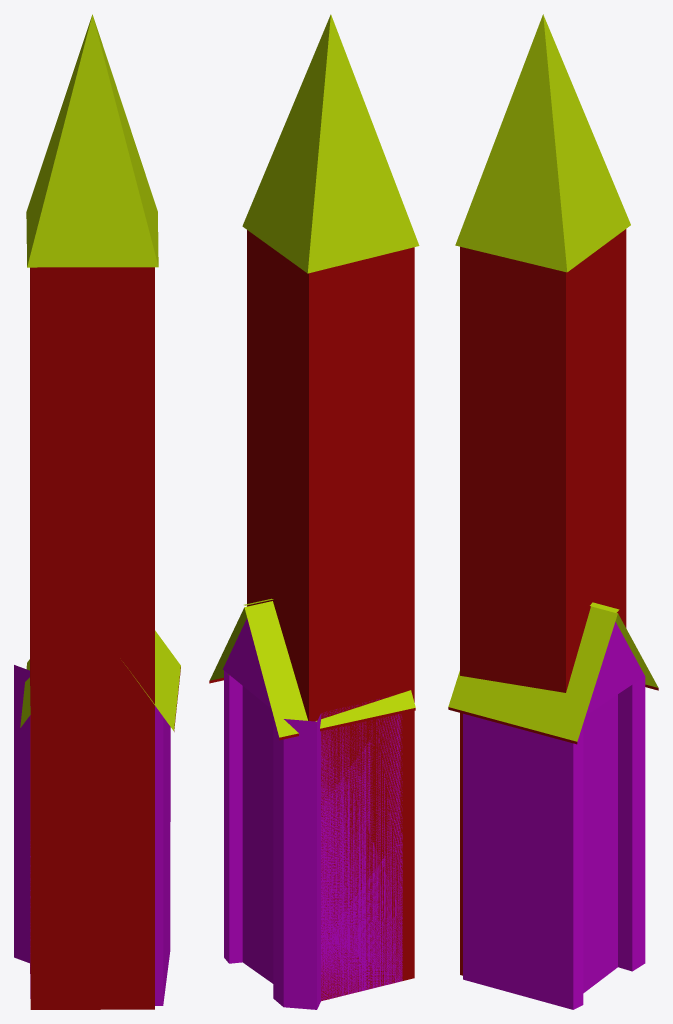
The model's file is dol_20.glb.
3 views of the same model, side by side, from view 1: azimuth 30°, elevation 25°; view 2: azimuth 150°, elevation 25°; view 3: azimuth 270°, elevation 25° (orthographic).
Parts seen in each view (by area): view 1: dol_20; view 2: dol_20; view 3: dol_20.
Part boxes in pixels (x1,y1,x2,y2): dol_20: (14, 14, 180, 1009); dol_20: (209, 14, 419, 1009); dol_20: (448, 14, 658, 1009).
Bounding box in the file's own units: 8.59 × 42.98 × 8.62.
